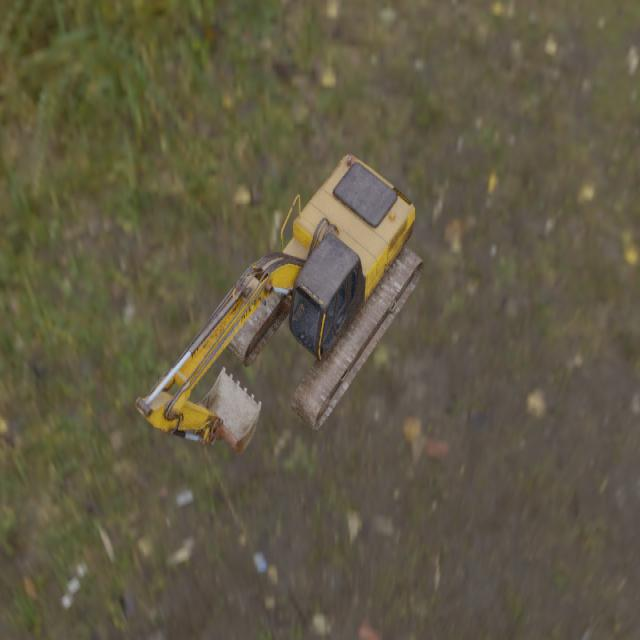excavator: (134, 152, 424, 453)
